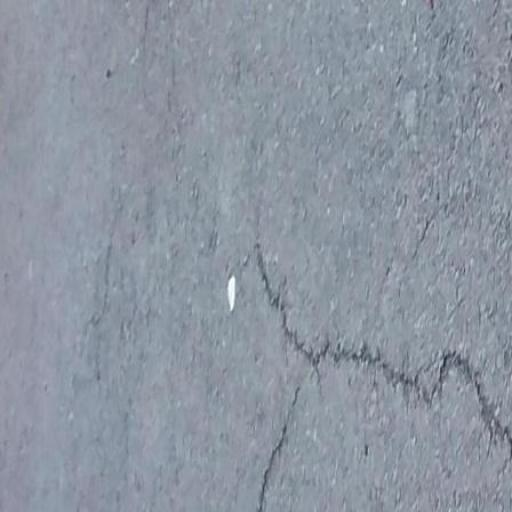spalling: (247, 240, 511, 456), (250, 383, 302, 507)
